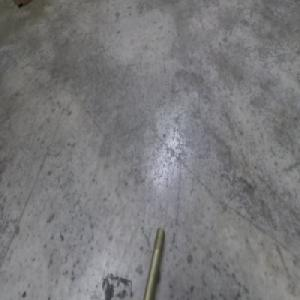Bolt: (143, 230, 164, 300)
